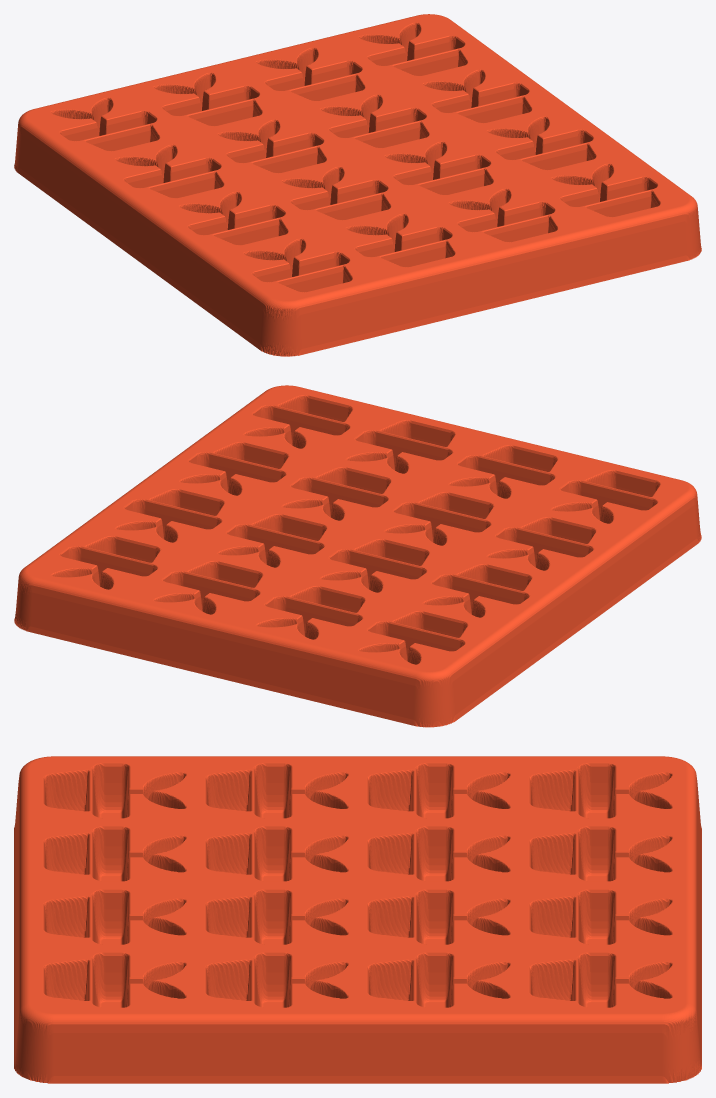
The model's file is mold.glb.
The picture shows the model from 3 angles, top to bottom: view 1: azimuth 30°, elevation 25°; view 2: azimuth 150°, elevation 25°; view 3: azimuth 270°, elevation 25°; orthographic projection. The views are drawn at different scales.
Parts seen in each view (by area): view 1: geometry_0; view 2: geometry_0; view 3: geometry_0.
Boxes of the visible parts, x1,y1,x2,y2 form: geometry_0: (14,14,701,356); geometry_0: (14,385,701,727); geometry_0: (14,756,701,1083).
Size of the model in its own units: 0.1454 by 0.0159 by 0.1569.
